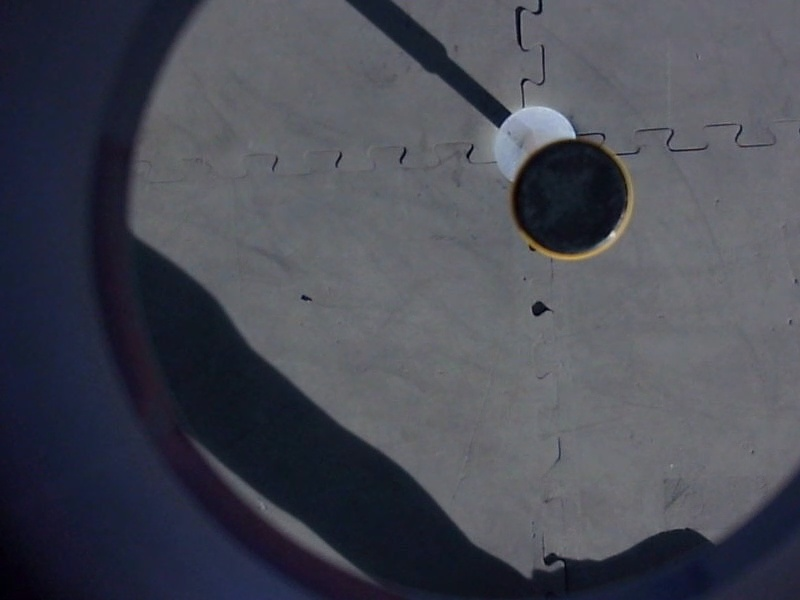tip: (505, 136, 636, 266)
